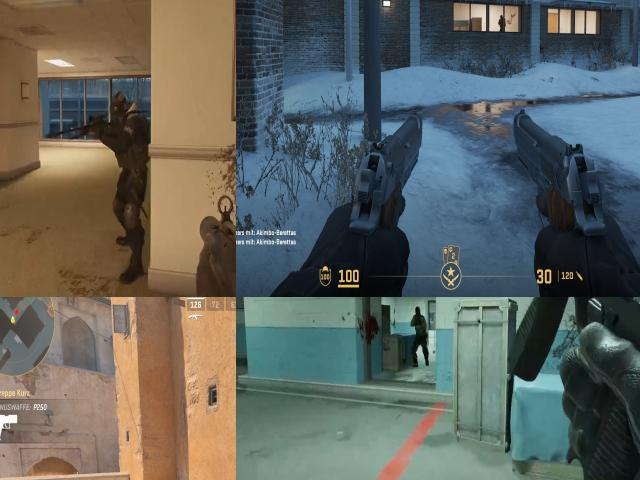CT: (104, 100, 152, 189), (499, 14, 505, 33)
CT-Head: (106, 87, 139, 135), (500, 14, 503, 19)
T: (411, 304, 428, 354)
T-Head: (412, 306, 423, 319)
